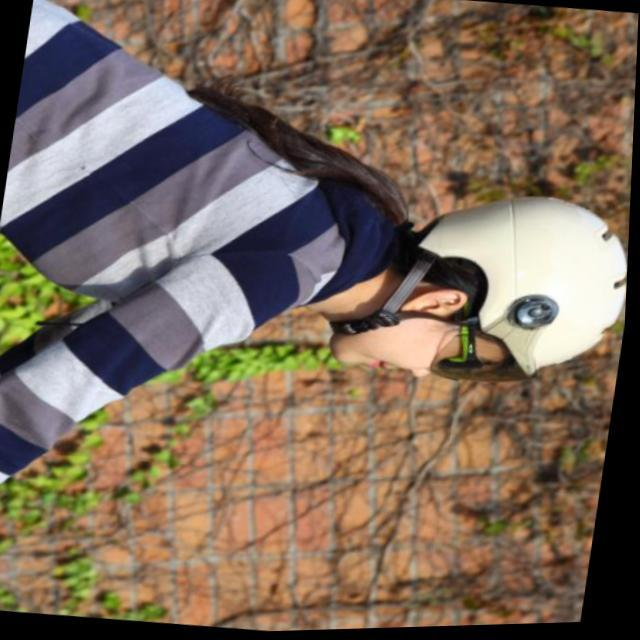with_helmet: (324, 195, 625, 377)
